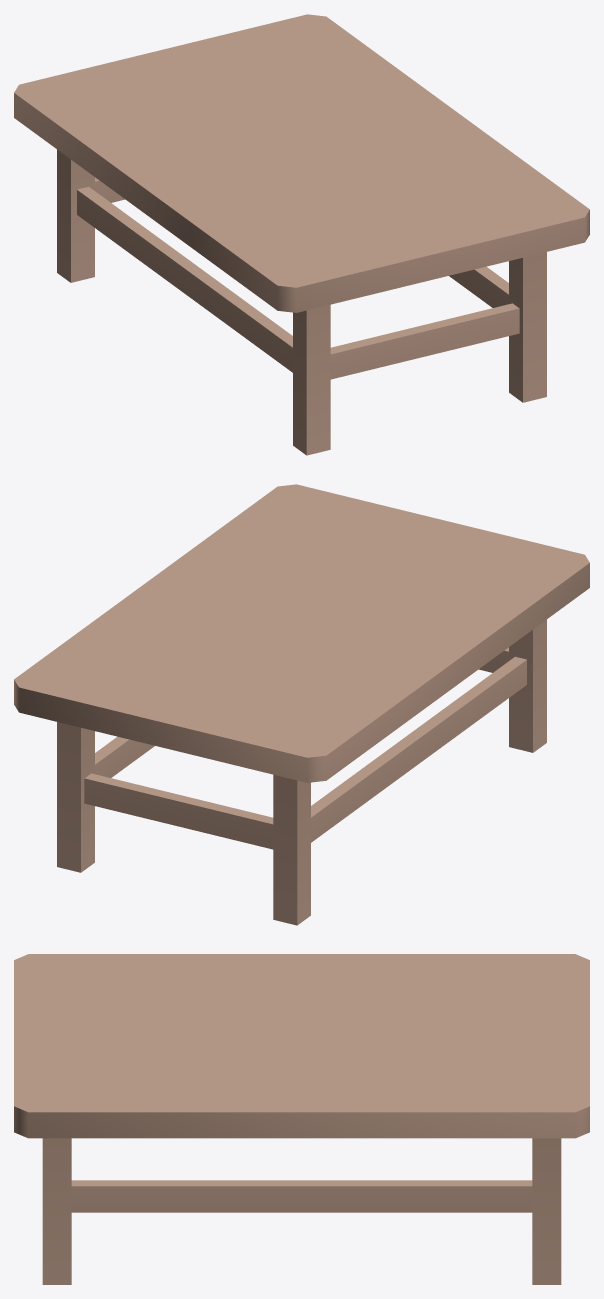
File: stall.glb
3 views of the same model, one above another, from view 1: azimuth 30°, elevation 25°; view 2: azimuth 150°, elevation 25°; view 3: azimuth 270°, elevation 25° (orthographic). The views are drawn at different scales.
Visible parts, largest first — view 1: stall; view 2: stall; view 3: stall.
Boxes of the visible parts, <box> form: stall: <box>14,14,589,455</box>; stall: <box>14,484,589,925</box>; stall: <box>14,954,589,1284</box>.
Bounding box in the file's own units: 0.65 × 0.3655 × 1.
